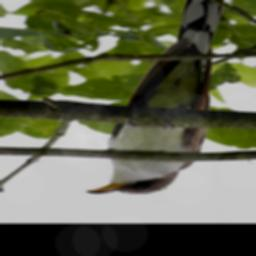Cuckoo: (83, 0, 225, 196)
